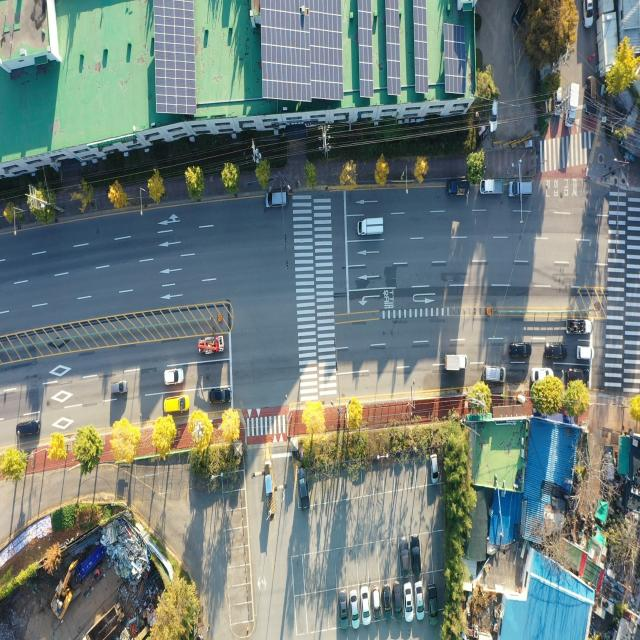car: (566, 363, 591, 387), (507, 181, 532, 199), (163, 398, 187, 416), (18, 421, 42, 438), (298, 465, 308, 505), (267, 190, 289, 208), (488, 99, 500, 132), (340, 592, 350, 630), (484, 365, 506, 382), (428, 584, 437, 623), (553, 84, 563, 118), (512, 1, 524, 29), (400, 540, 409, 577), (509, 344, 532, 358), (543, 344, 563, 360), (412, 542, 421, 576), (210, 387, 230, 402), (383, 585, 392, 618), (416, 584, 424, 621), (406, 582, 414, 619), (394, 583, 402, 620), (165, 370, 184, 385), (532, 367, 550, 382), (351, 590, 358, 627), (362, 588, 369, 625), (586, 0, 594, 28), (372, 585, 379, 616), (110, 381, 126, 394), (431, 456, 437, 483)
medium_truck: (83, 594, 128, 640)
small_truck: (197, 331, 226, 361), (585, 72, 598, 119), (567, 84, 580, 126), (565, 317, 592, 337), (358, 217, 383, 236), (444, 355, 469, 372), (479, 178, 504, 195), (448, 180, 470, 197), (576, 346, 593, 361)
